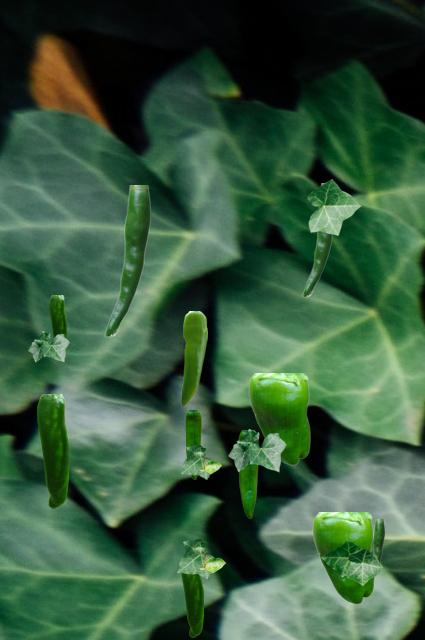green_chili: (104, 185, 149, 336), (248, 373, 309, 464), (312, 512, 373, 603), (37, 394, 67, 507), (302, 183, 332, 296), (181, 311, 206, 405), (238, 430, 257, 517), (181, 574, 202, 636), (185, 410, 200, 478), (49, 295, 65, 337), (372, 519, 383, 578)
